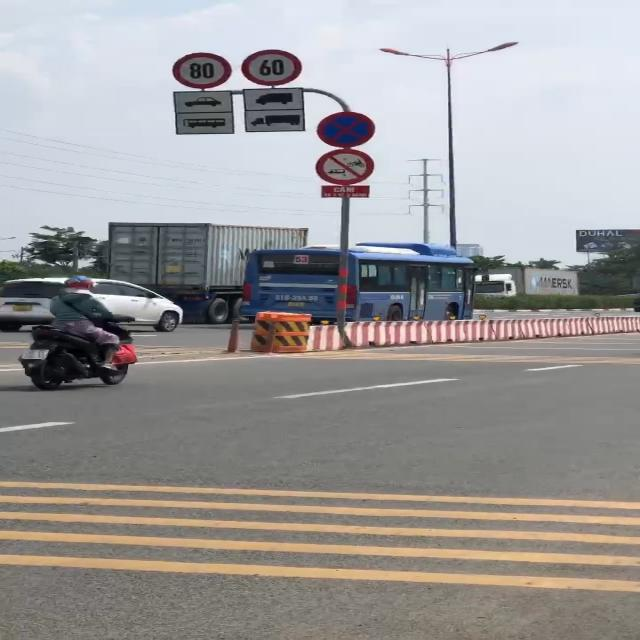Bien bao cam dung xe va do xe: (315, 108, 382, 149)
Bien bao toc do toi da cho phep: (167, 49, 238, 92), (238, 45, 306, 87)
